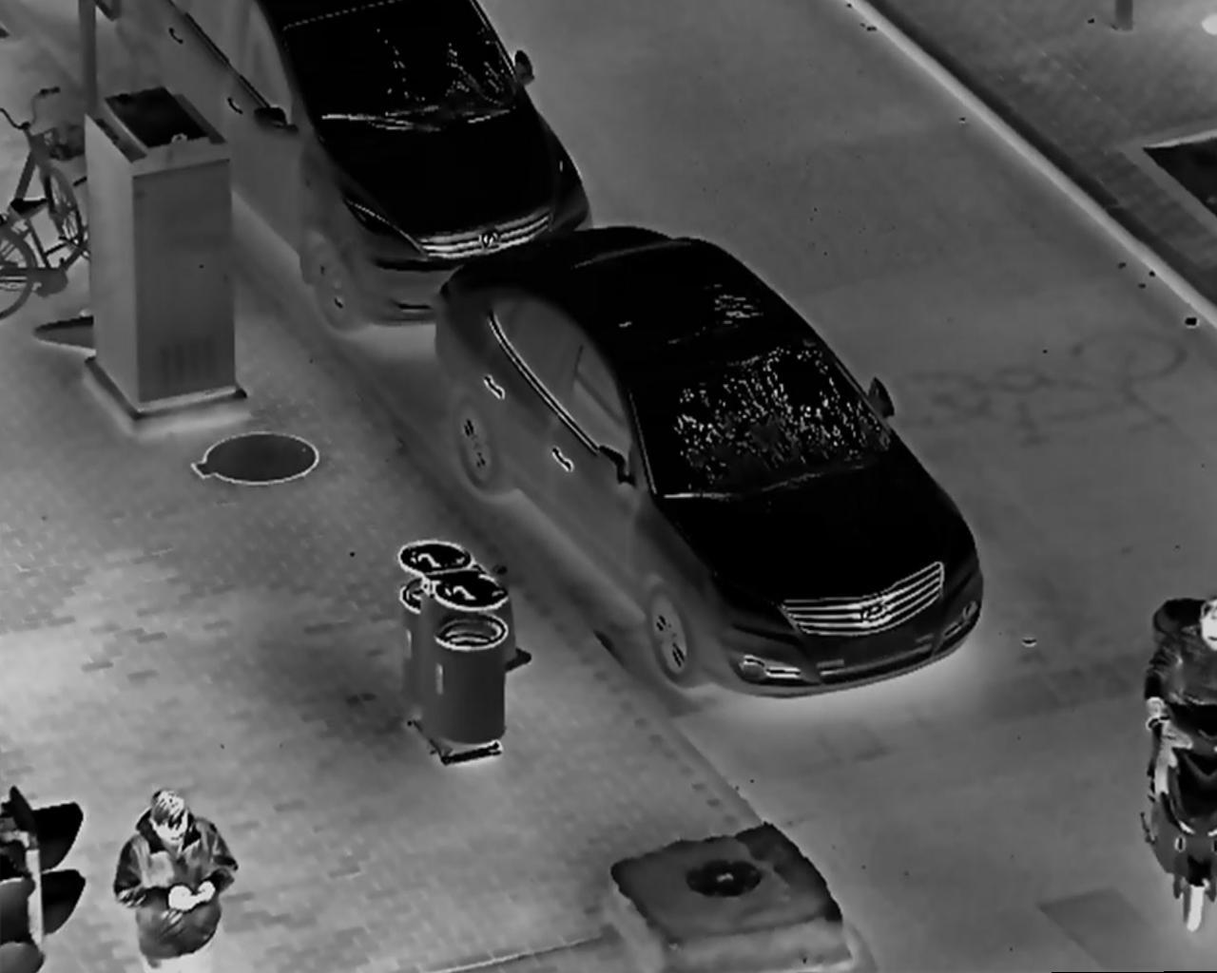person: (113, 790, 237, 973), (1138, 591, 1217, 819)
